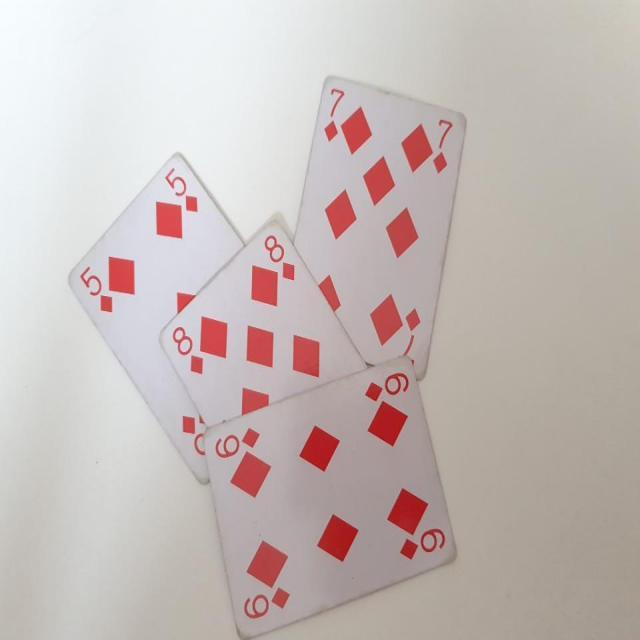5 of diamonds: (59, 148, 242, 488)
6 of diamonds: (202, 352, 458, 638)
7 of diamonds: (288, 75, 468, 385)
8 of diamonds: (156, 221, 372, 427)
